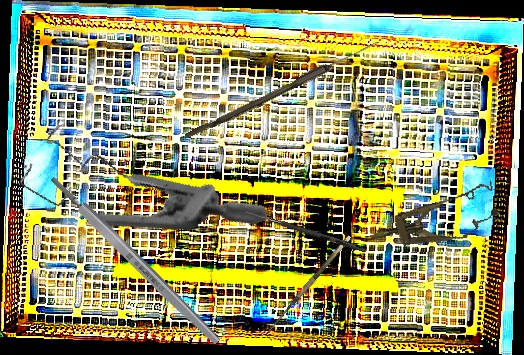Hook Surgical: (262, 235, 358, 341), (243, 209, 368, 253)
Scalpel Handle: (48, 173, 222, 347)
Speculum: (6, 73, 269, 289), (364, 179, 504, 262)
Surgical Spoon: (184, 36, 380, 144)
